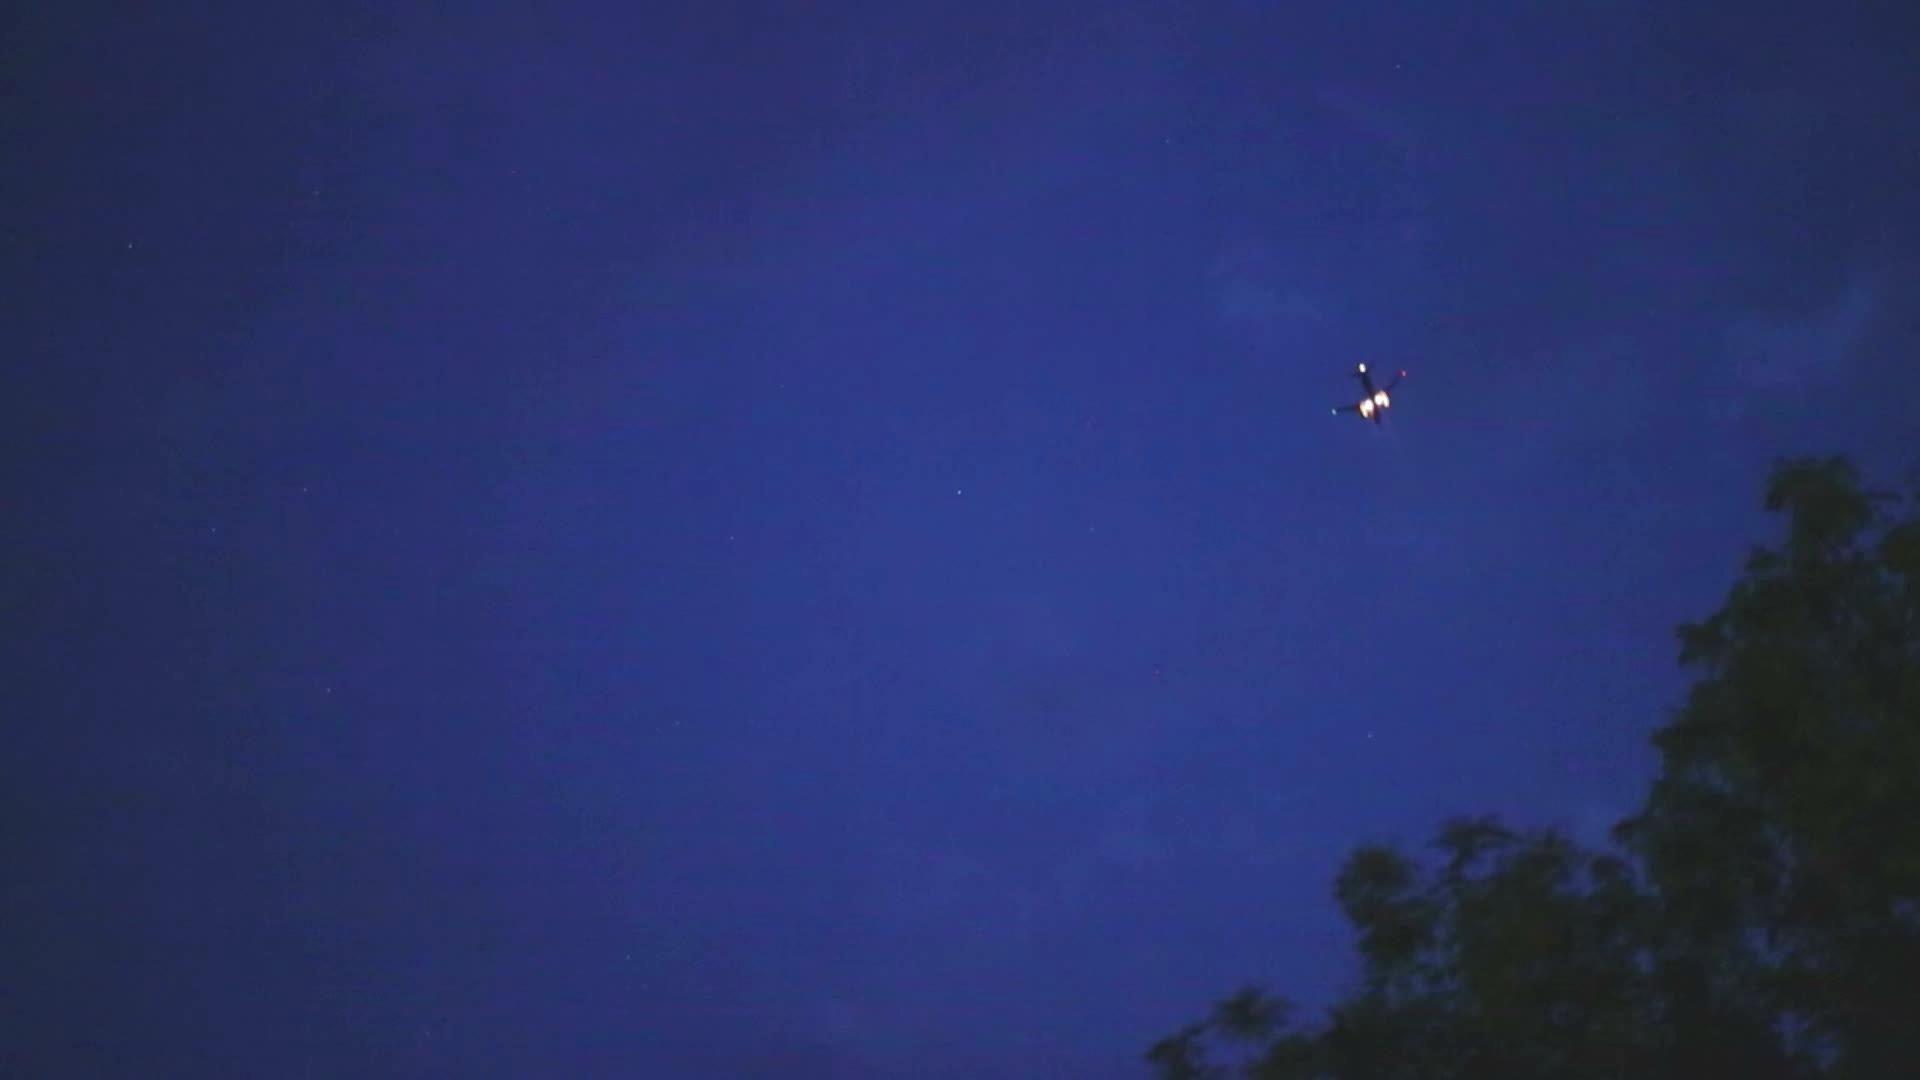Plane: (1317, 345, 1418, 439)
